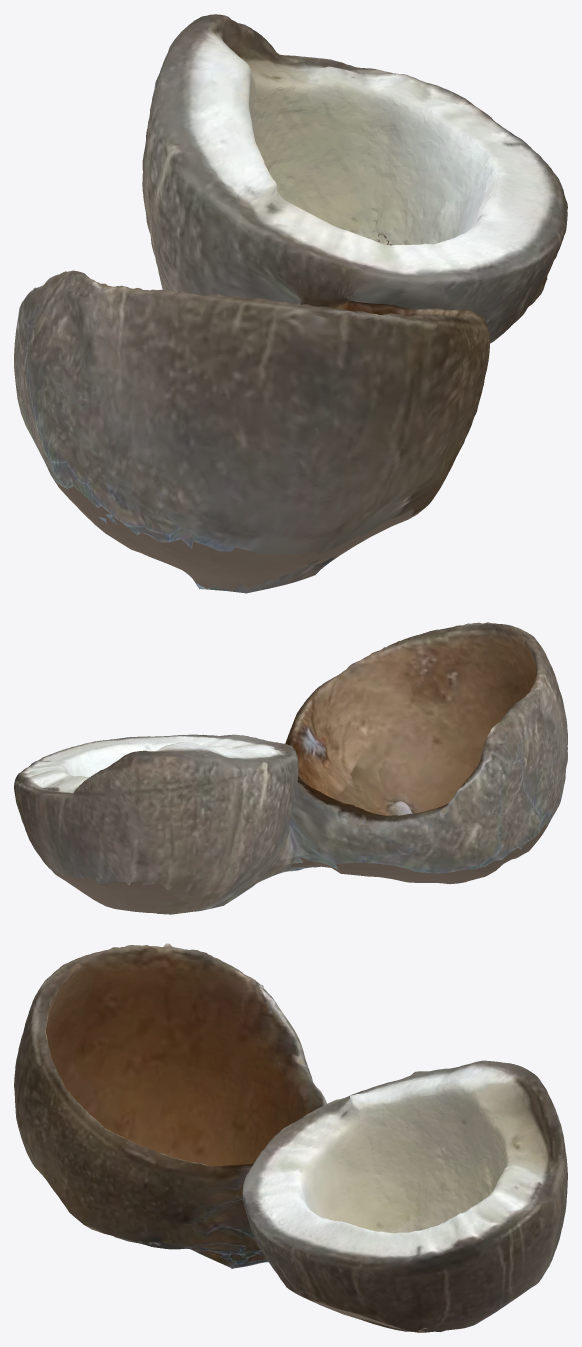
The model's file is coconut-1.glb.
The picture shows the model from 3 angles, top to bottom: view 1: azimuth 30°, elevation 25°; view 2: azimuth 150°, elevation 25°; view 3: azimuth 270°, elevation 25°; orthographic projection. The views are drawn at different scales.
Parts seen in each view (by area): view 1: Object_3; view 2: Object_3; view 3: Object_3.
Part boxes in pixels (x1,y1,x2,y2): Object_3: (14, 14, 567, 593); Object_3: (14, 622, 567, 914); Object_3: (14, 943, 567, 1332).
Bounding box in the file's own units: 2.75 × 1.39 × 2.82.
1 material, 1 textured.
